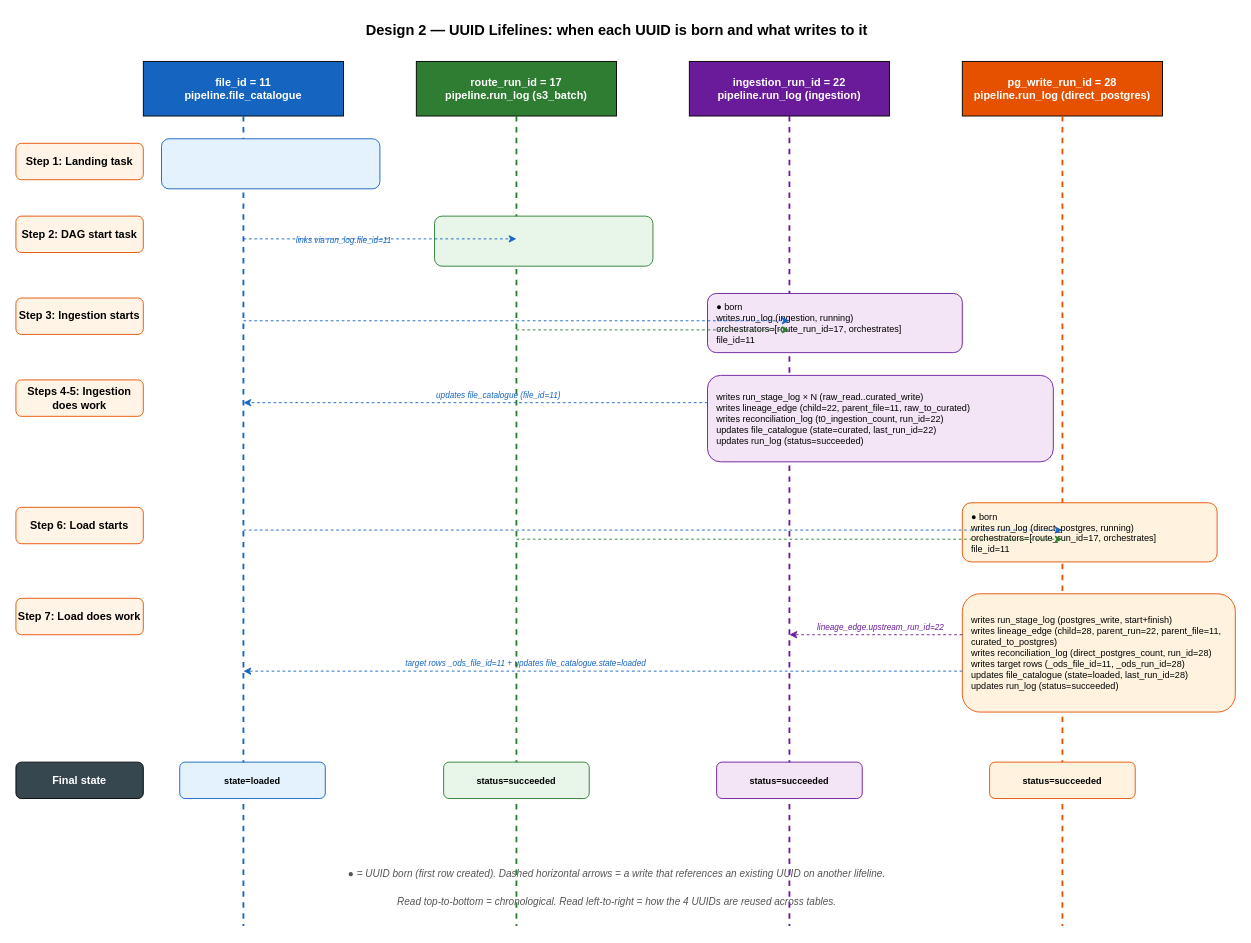
Some shapes in this 1251 by 943 pixel diagram are drawn without their labels. The shapes that lost their labels are listed below. From the top down, each one's centre as x and y in pixels, then its label:
(270,163): ● born writes file_catalogue (state=received, sftp_path, s3_raw_path)
(543,240): ● born writes run_log (s3_batch, running)
